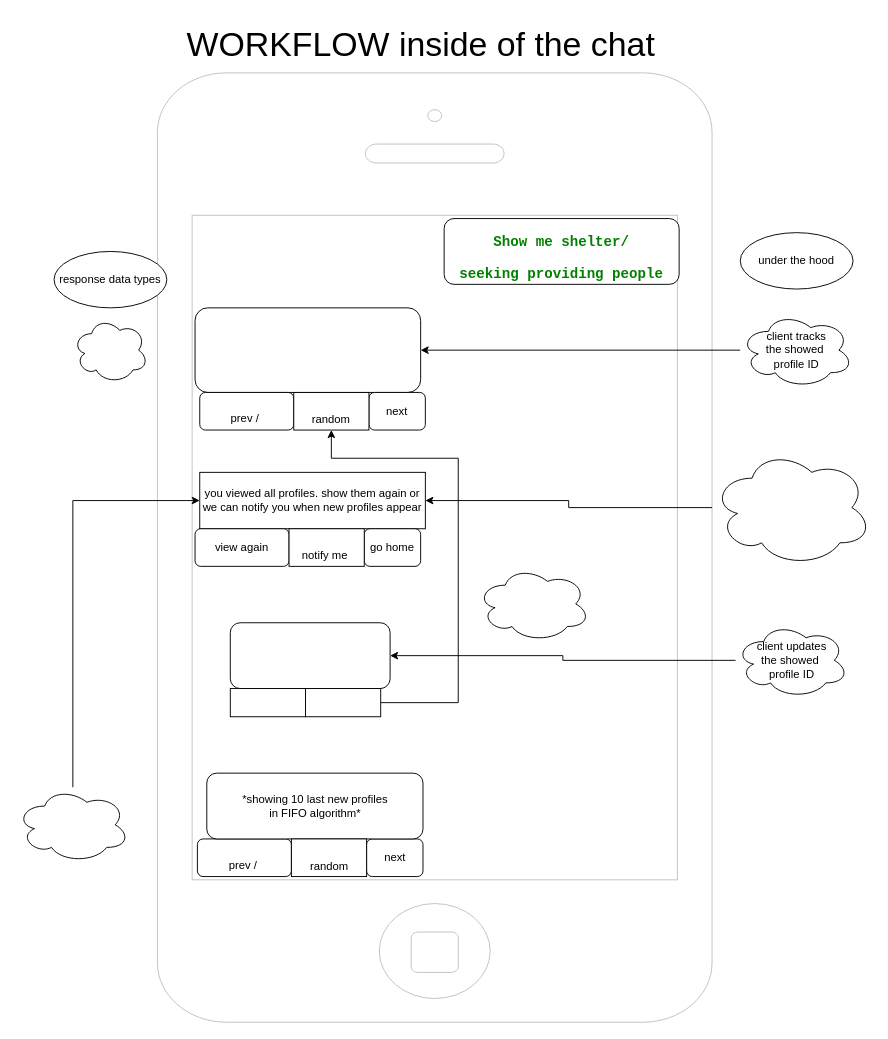
The diagram is 888 pixels wide and 1039 high, and some of its shapes have lost their labels. Each missing label, with the centre of its shape:
"1st profile..." belongs at (307,349).
"CallBackQuery" belongs at (110,349).
"cycle repeats from the" belongs at (72,824).
"if there're new profiles" belongs at (533,603).
"new profiles were registered! show new profiles? yes or no" belongs at (309,655).
"no *random profile open*" belongs at (343,702).
"server updates client on update. The Observer Pattern" belongs at (791,507).
"yes" belongs at (267,702).
